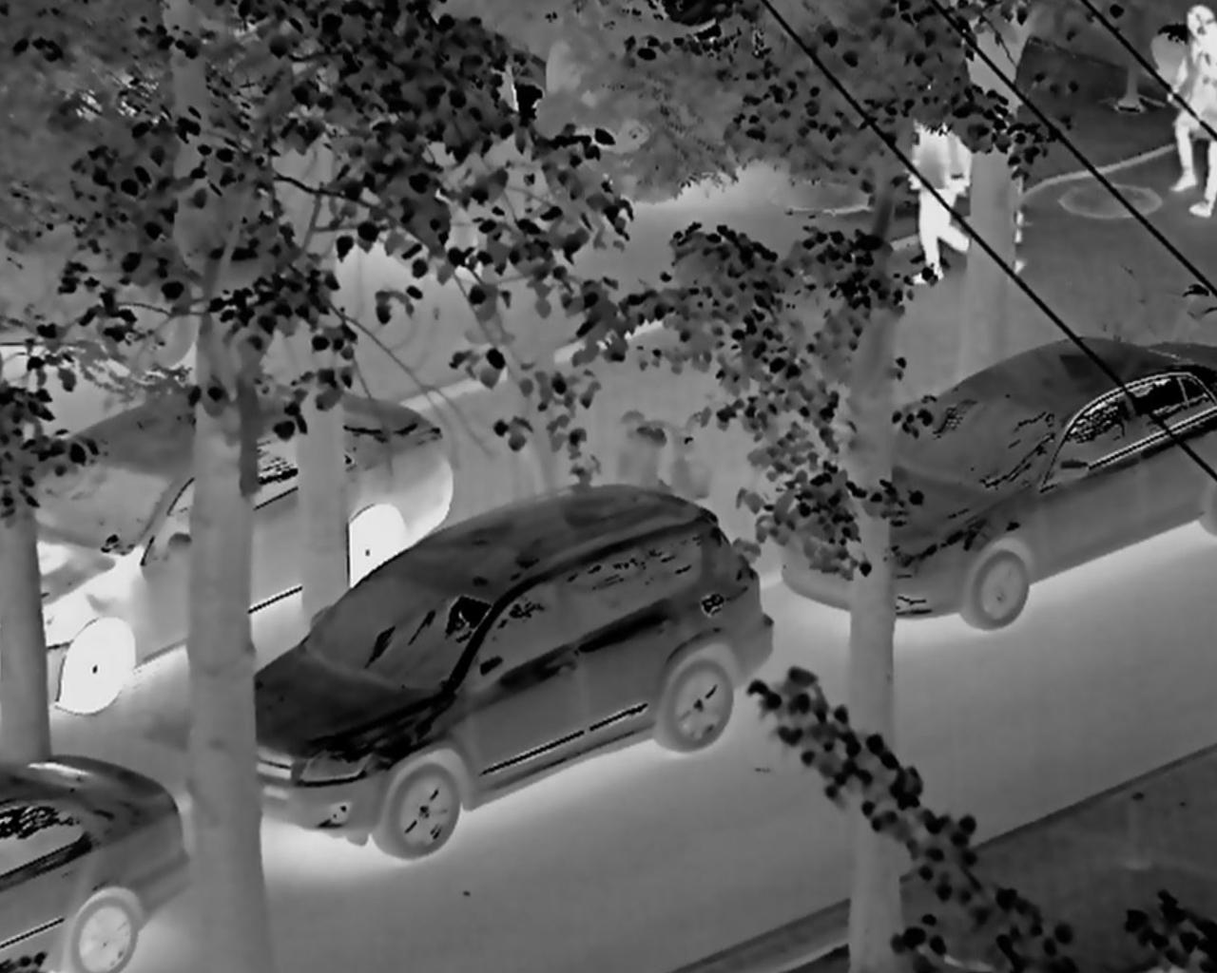person: (906, 52, 973, 267)
